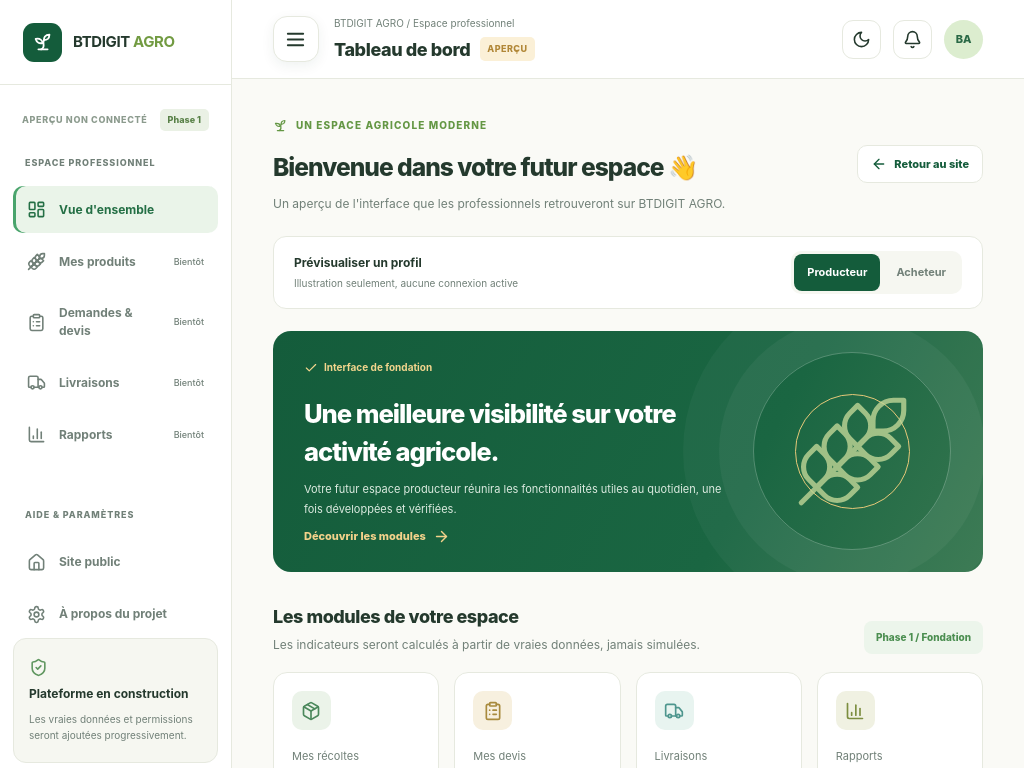
Scenario: BTDIGIT AGRO — fondation frontend › réduit et déploie la sidebar avec le hamburger sur ordinateur
The image size is (1024, 768).
Click the button named "Réduire le menu latéral": (296, 39) x1=273 y1=16 x2=319 y2=62
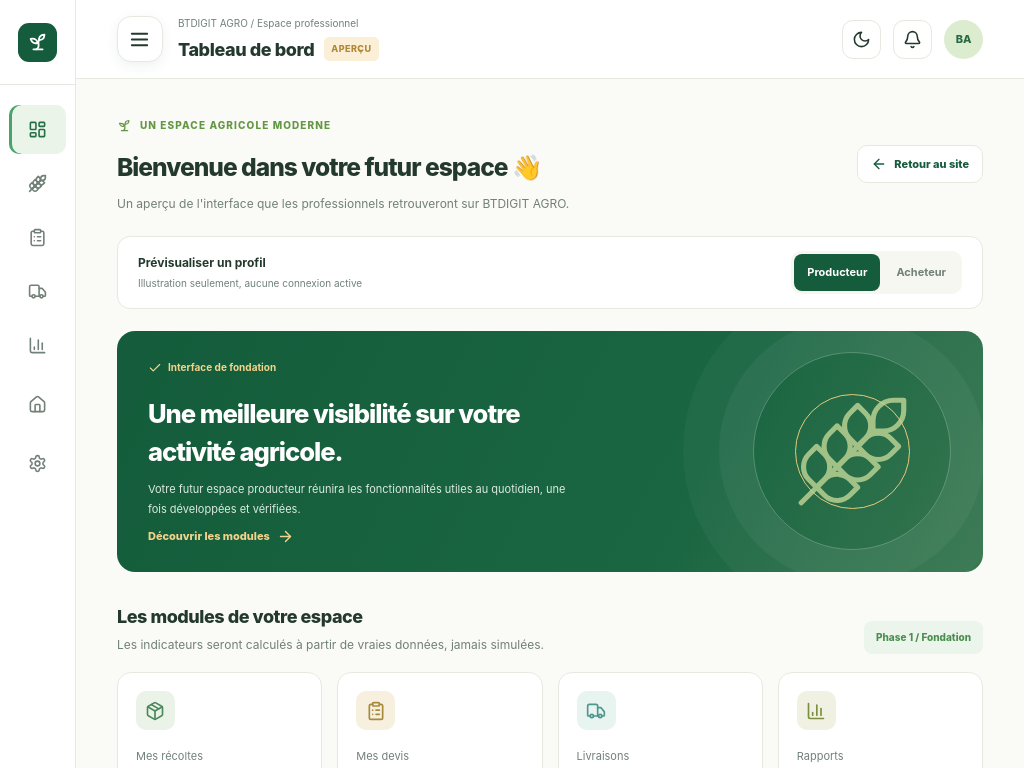
Now the button named "Déployer le menu latéral" is collapsed
Click the button named "Déployer le menu latéral": (140, 39) x1=117 y1=16 x2=163 y2=62
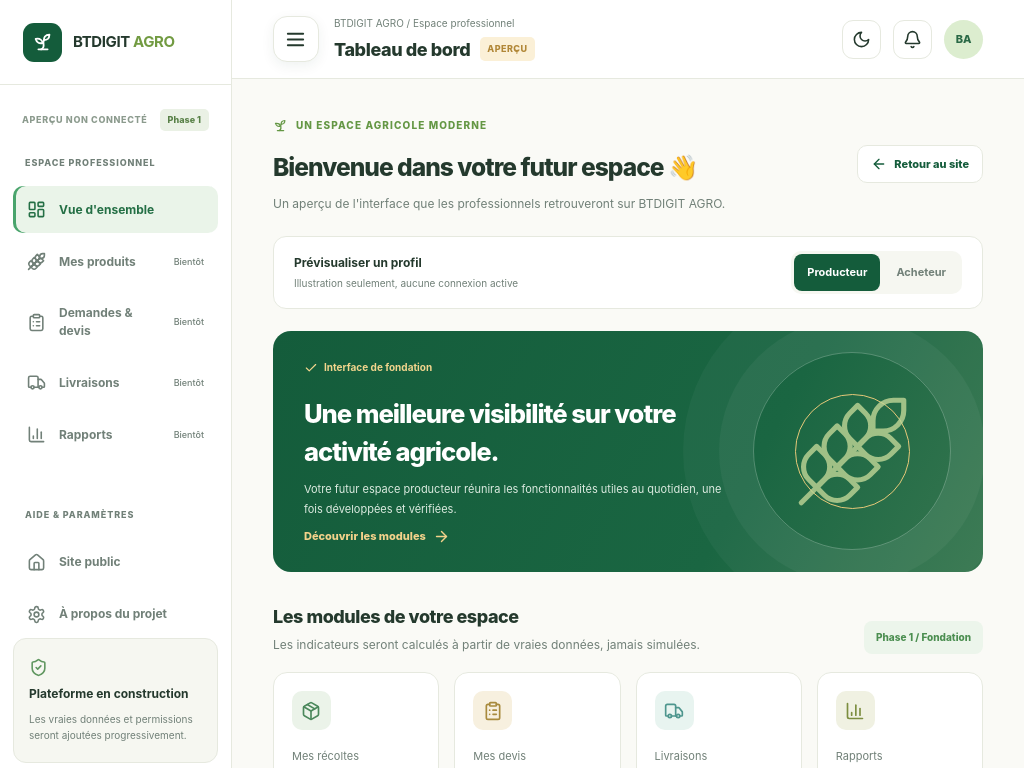
Now the button named "Réduire le menu latéral" is expanded, box x1=273 y1=16 x2=319 y2=62
